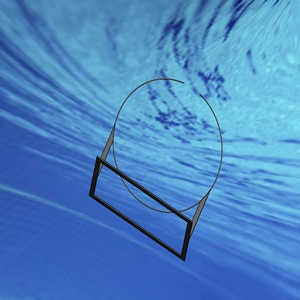circle: (87, 78, 225, 260)
